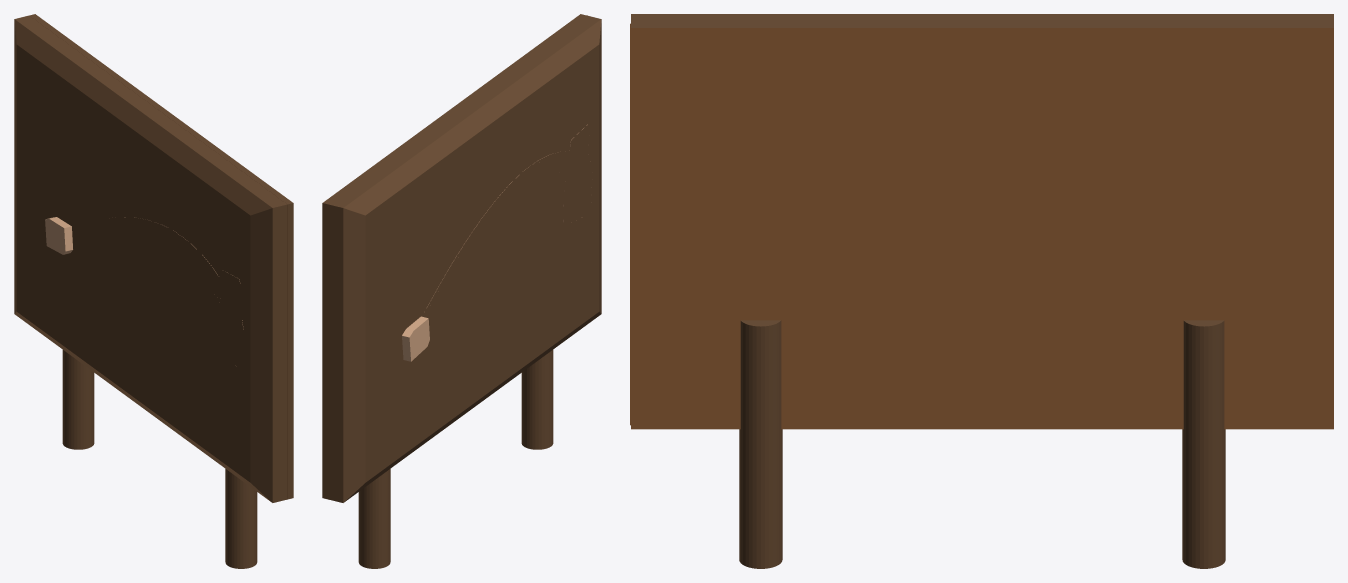
The model's file is ThrowSign.fbx.
3 views of the same model, side by side, from view 1: azimuth 30°, elevation 25°; view 2: azimuth 150°, elevation 25°; view 3: azimuth 270°, elevation 25° (orthographic). The views are drawn at different scales.
Visible parts, largest first — view 1: Cube.003, Cylinder, Cylinder.001; view 2: Cube.003, Cylinder.001, Cylinder; view 3: Cube.003, Cylinder, Cylinder.001.
Boxes of the visible parts, <box> form: Cube.003: <box>14,14,293,502</box>; Cylinder: <box>62,350,94,449</box>; Cylinder.001: <box>225,469,257,568</box>; Cube.003: <box>322,14,601,502</box>; Cylinder.001: <box>521,350,553,449</box>; Cylinder: <box>358,469,390,568</box>; Cube.003: <box>630,14,1333,429</box>; Cylinder: <box>1182,320,1225,568</box>; Cylinder.001: <box>739,320,782,568</box>.
Bounding box in the file's own units: 33.98 × 266 × 318.
